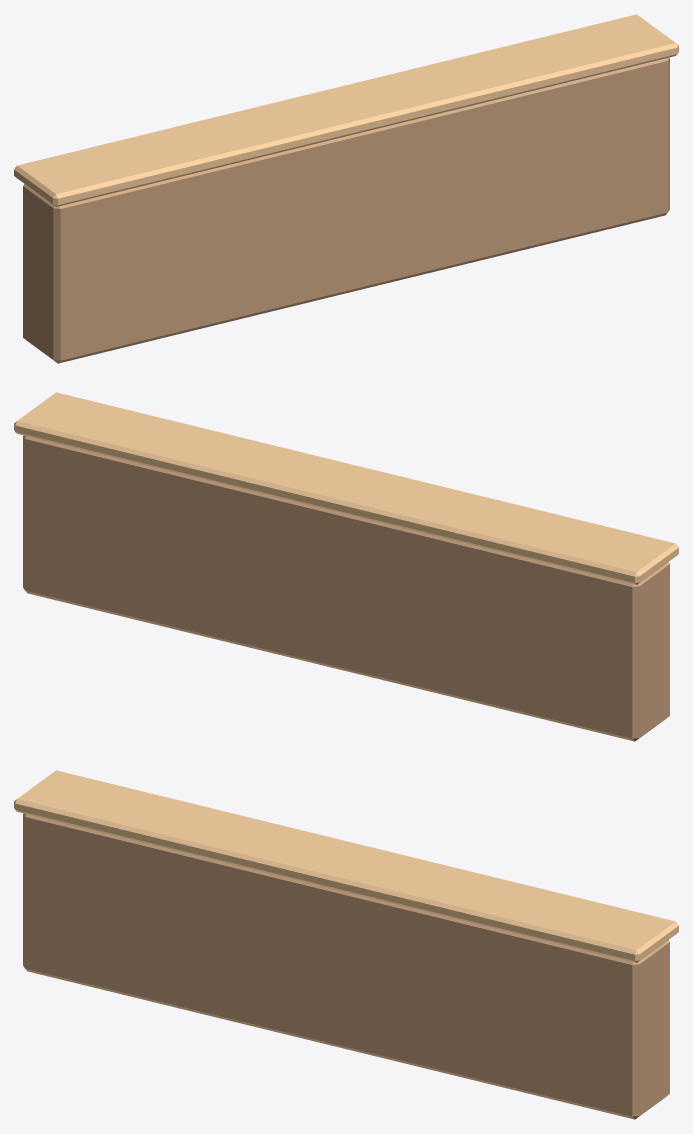
The model's file is retaining_wall1.glb.
3 renders of one model, top to bottom at view 1: azimuth 30°, elevation 25°; view 2: azimuth 150°, elevation 25°; view 3: azimuth 330°, elevation 25°, orthographic.
Visible parts, largest first — view 1: retaining_wall, retaining_wall_cap; view 2: retaining_wall, retaining_wall_cap; view 3: retaining_wall, retaining_wall_cap.
Part boxes in pixels (x1,y1,x2,y2): retaining_wall: (23,57,669,363); retaining_wall_cap: (14,14,678,206); retaining_wall: (23,435,669,741); retaining_wall_cap: (14,392,678,584); retaining_wall: (23,813,669,1119); retaining_wall_cap: (14,770,678,962).
Bounding box in the file's own units: 4.06 × 1.08 × 0.48.
